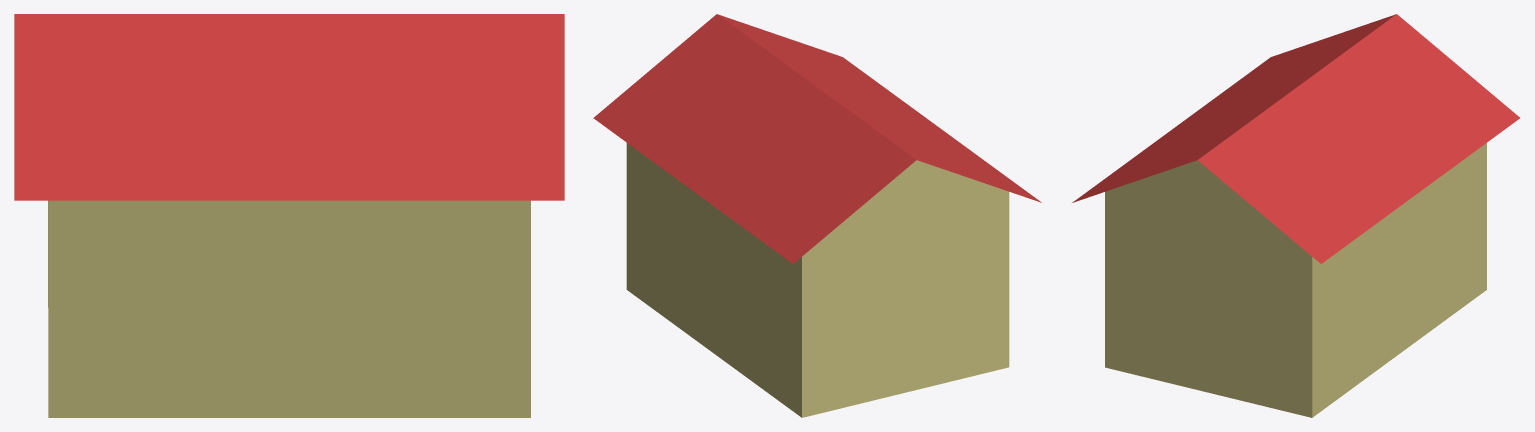
3 renders of one model, left to right at view 1: azimuth 30°, elevation 25°; view 2: azimuth 150°, elevation 25°; view 3: azimuth 270°, elevation 25°, orthographic. The views are drawn at different scales.
Size of the model in its own units: 19.94 by 18.29 by 10.86.
